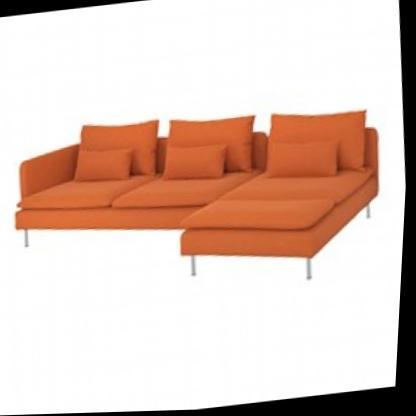Sofa: (0, 70, 397, 319)
